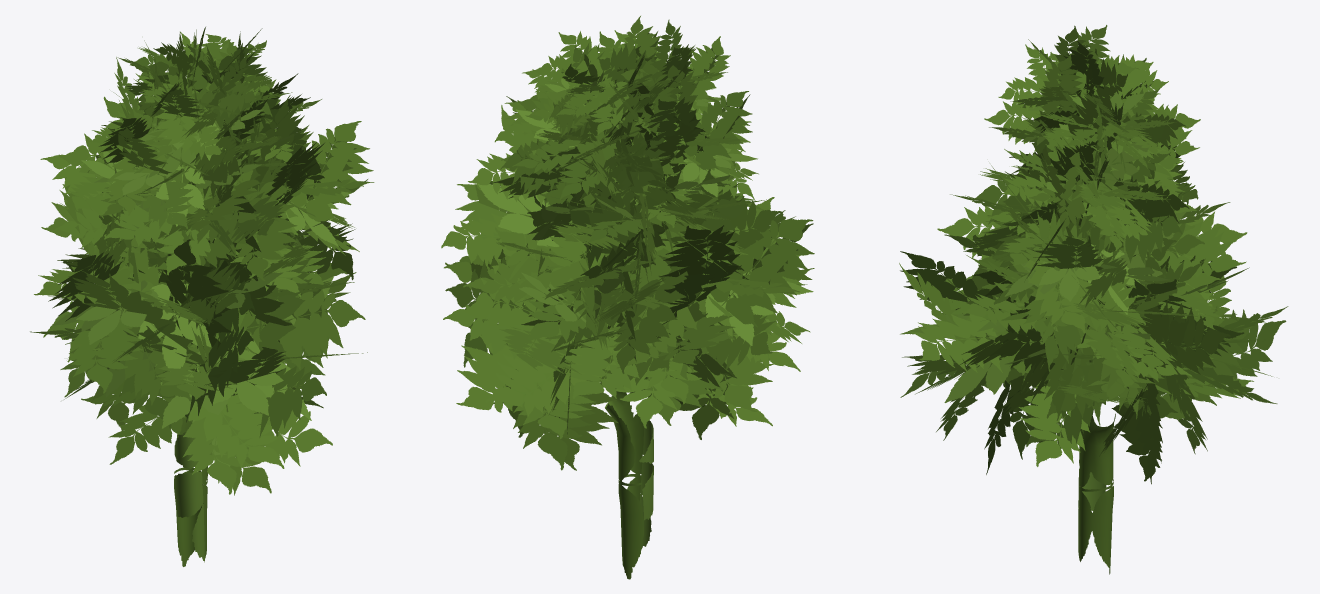
The model's file is SM_Common_Tree_05.glb.
The picture shows the model from 3 angles, left to right: view 1: azimuth 30°, elevation 25°; view 2: azimuth 150°, elevation 25°; view 3: azimuth 270°, elevation 25°; orthographic projection. The views are drawn at different scales.
Visible parts, largest first — view 1: SM_Common_Tree_05; view 2: SM_Common_Tree_05; view 3: SM_Common_Tree_05.
Part boxes in pixels (x1,y1,x2,y2): SM_Common_Tree_05: (30, 27, 374, 566); SM_Common_Tree_05: (441, 16, 814, 579); SM_Common_Tree_05: (899, 25, 1288, 574).
Size of the model in its own units: 7.11 by 10.23 by 7.44.
Materials: 1 (1 with a texture image).
